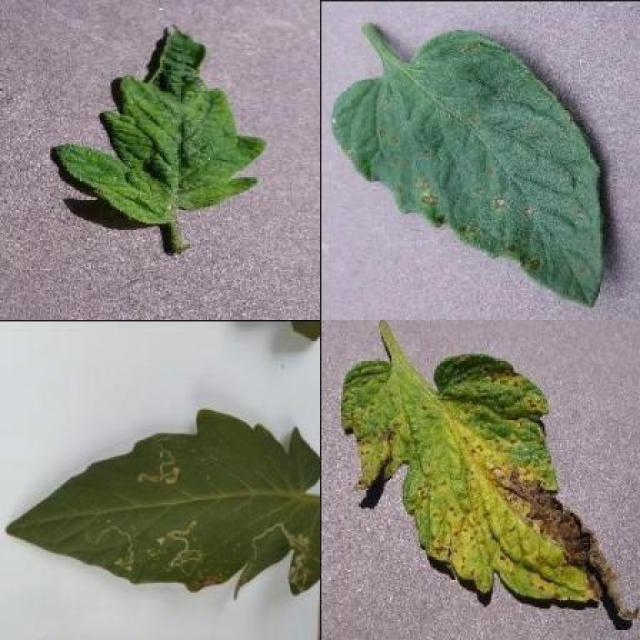Leaf Miner: (5, 406, 321, 596)
Mosaic Virus: (52, 25, 269, 225)
Septoria: (328, 29, 603, 308), (341, 354, 634, 604)
